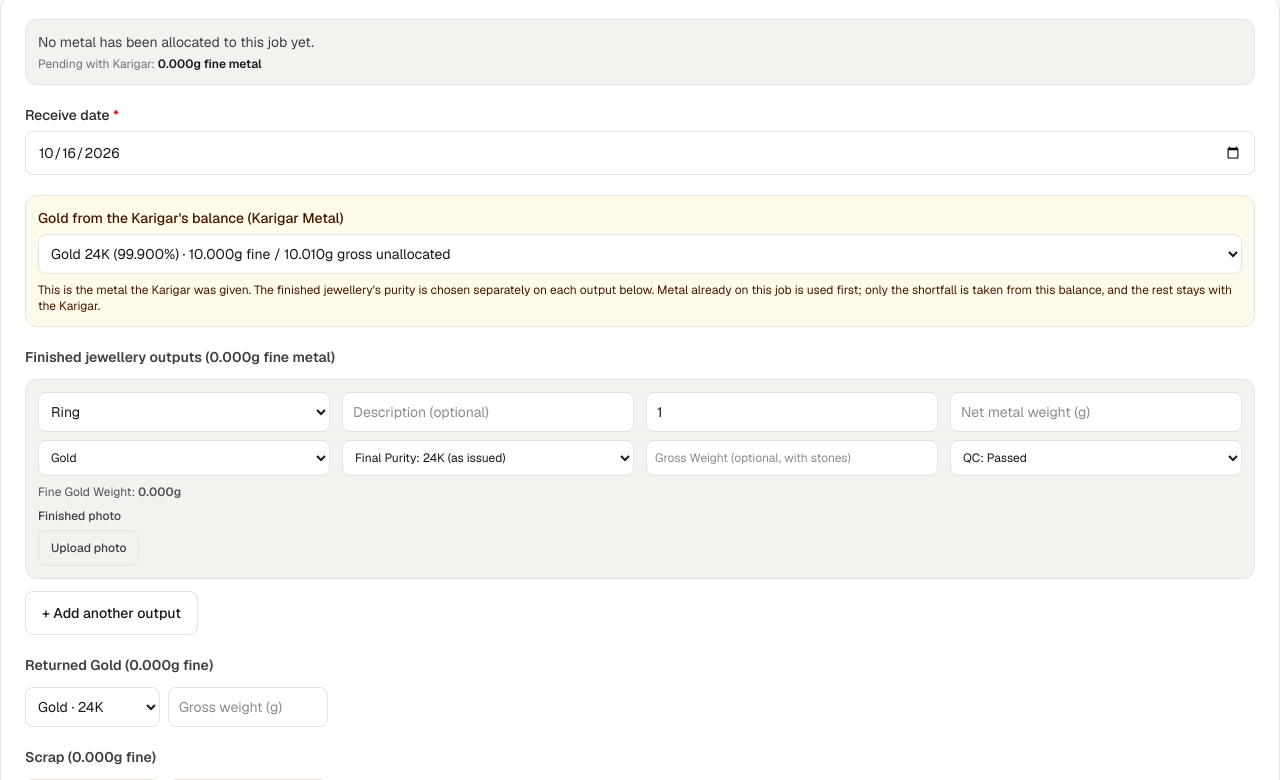
it: ReceiveFinishedForm — gold from the Karigar's balance (Owner) › a server refusal (e.g. insufficient balance) is shown and nothing can be saved
Type "4.000" into the number field labelled "Net metal weight".
click(1096, 412); type("4.000")  # box [950,392,1242,432]
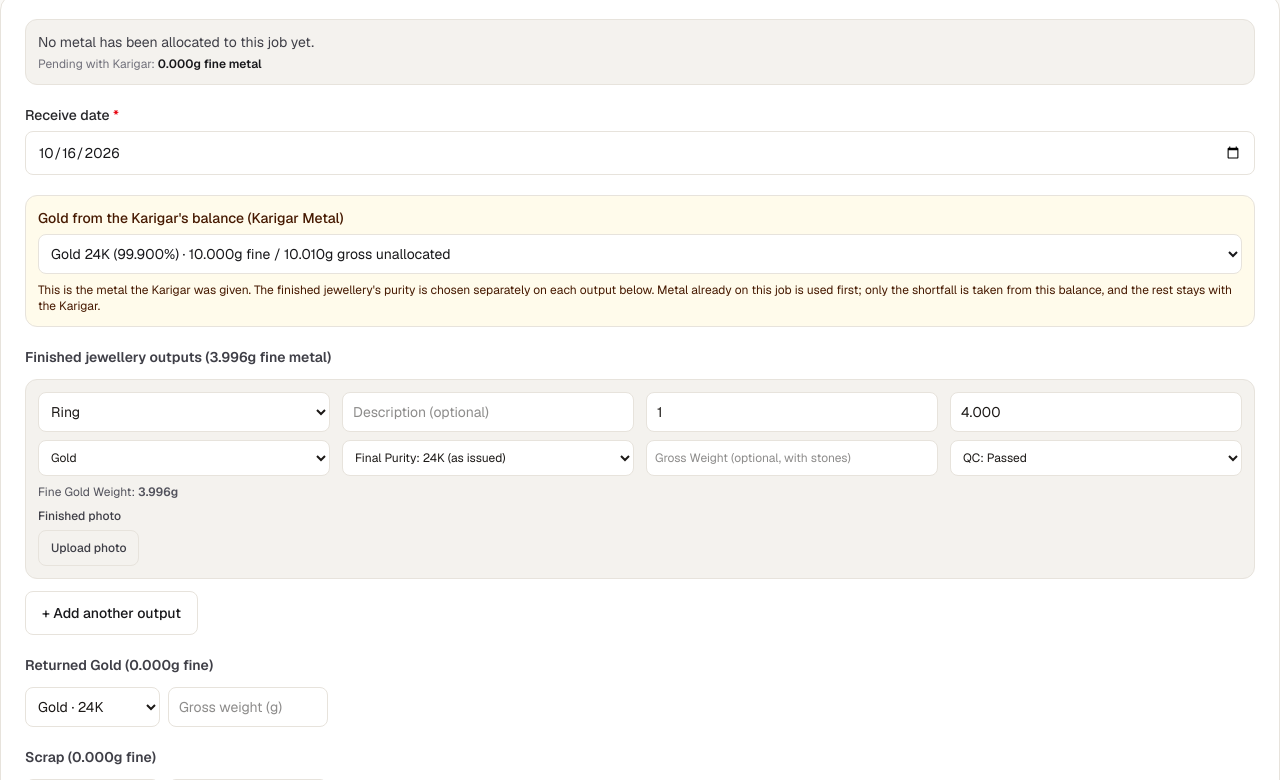
Select "Final Purity: 18K" in the dropdown named "Final Purity" at (488, 458), box [342,440,634,476]
(page scrolled)
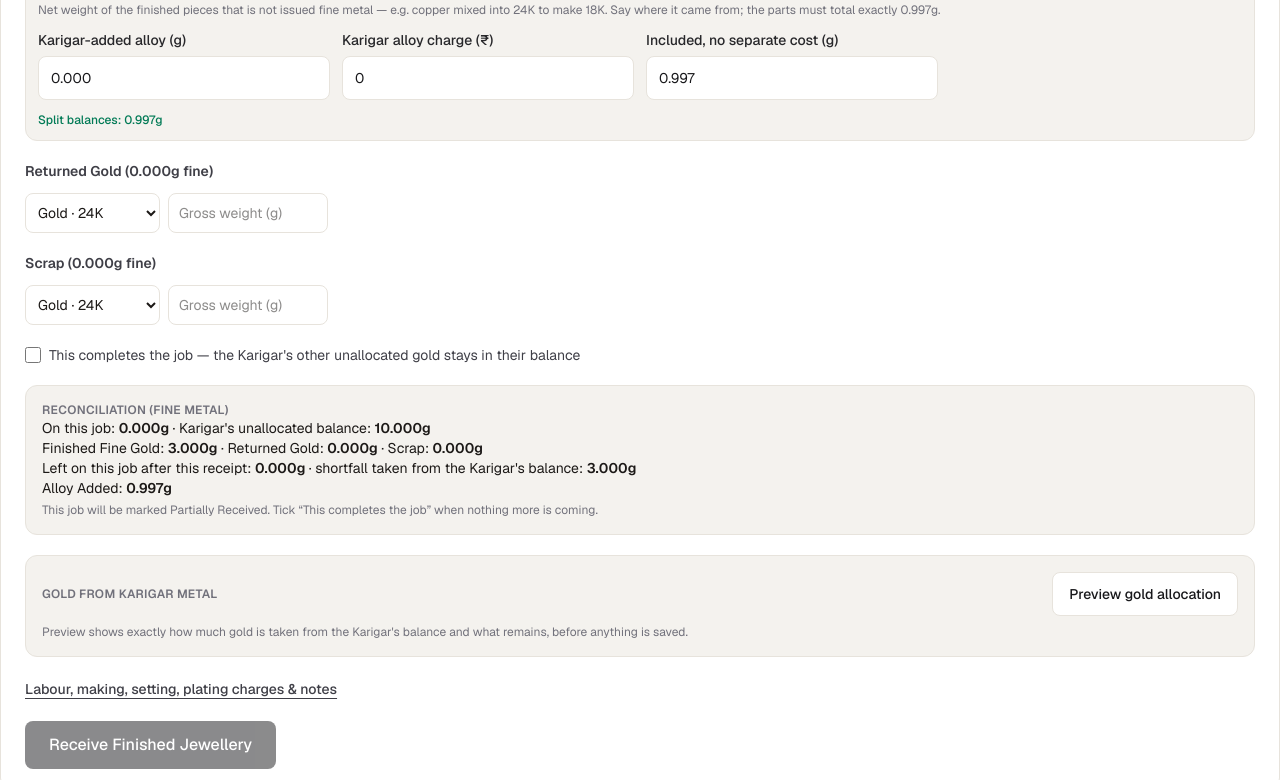
Click the button "Preview gold allocation".
click(1145, 594)  # box [1052,572,1238,616]
(page scrolled)
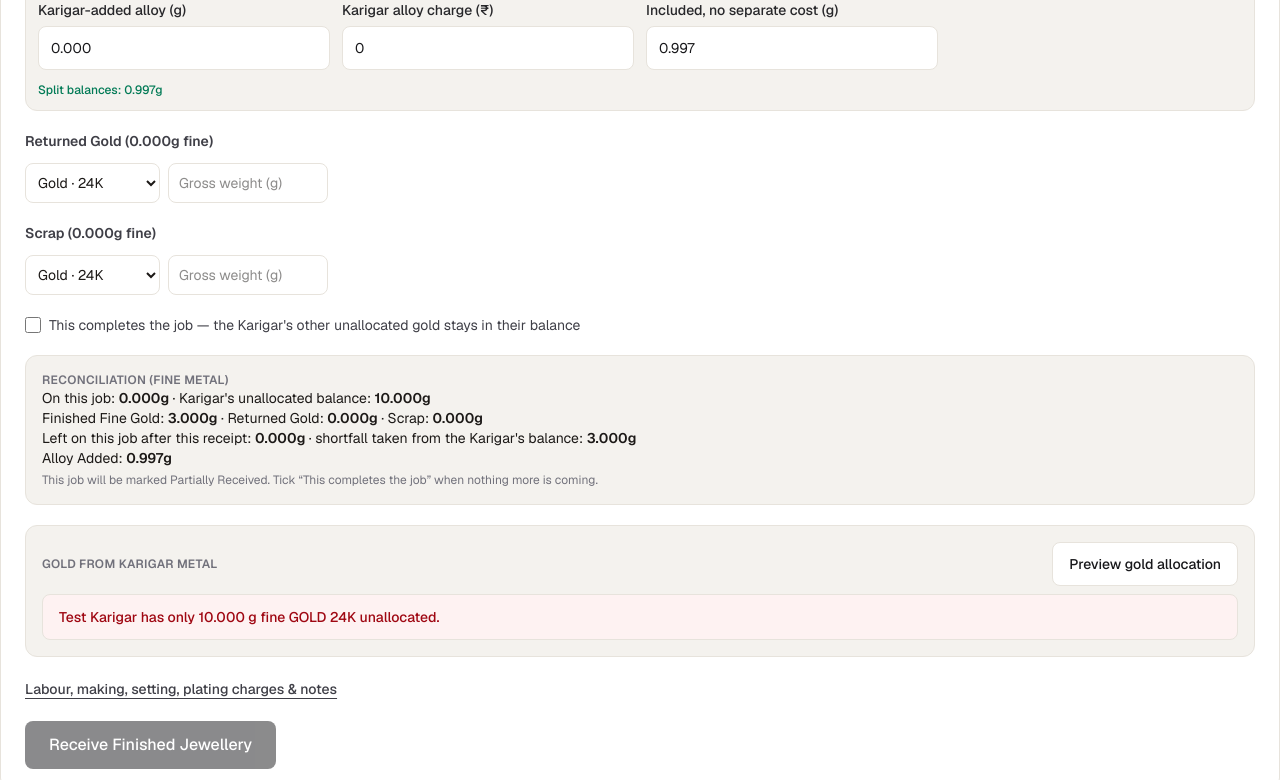
expect the button "Receive Finished Jewellery" is disabled: met, box [25,721,276,769]
expect the text "Test Karigar has only 10.000 g fine GOLD 24K unallocated." is shown: met, box [42,594,1238,640]
